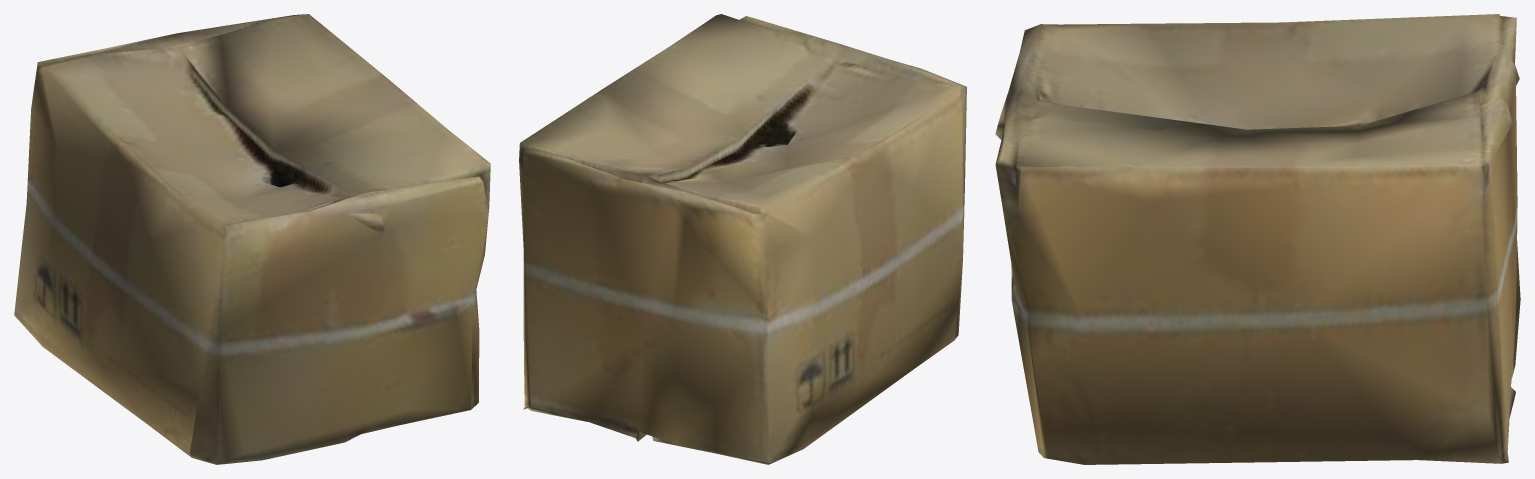
The model's file is cardboard_lo.glb.
3 views of the same model, side by side, from view 1: azimuth 30°, elevation 25°; view 2: azimuth 150°, elevation 25°; view 3: azimuth 270°, elevation 25° (orthographic). The views are drawn at different scales.
Visible parts, largest first — view 1: cardboard_box_01; view 2: cardboard_box_01; view 3: cardboard_box_01.
Part boxes in pixels (x1,y1,x2,y2): cardboard_box_01: (14, 14, 490, 464); cardboard_box_01: (519, 14, 966, 464); cardboard_box_01: (995, 14, 1520, 464).
Bounding box in the file's own units: 0.3827 × 0.3394 × 0.5152.
Materials: 1 (1 with a texture image).
